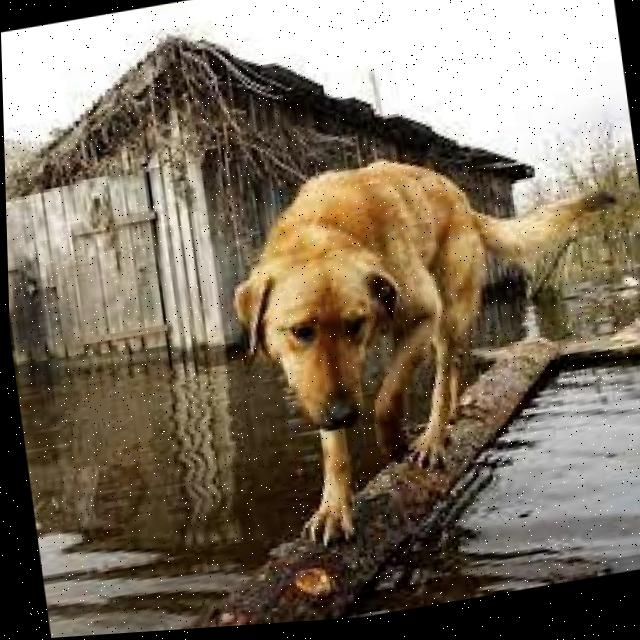dog: (189, 117, 638, 564)
